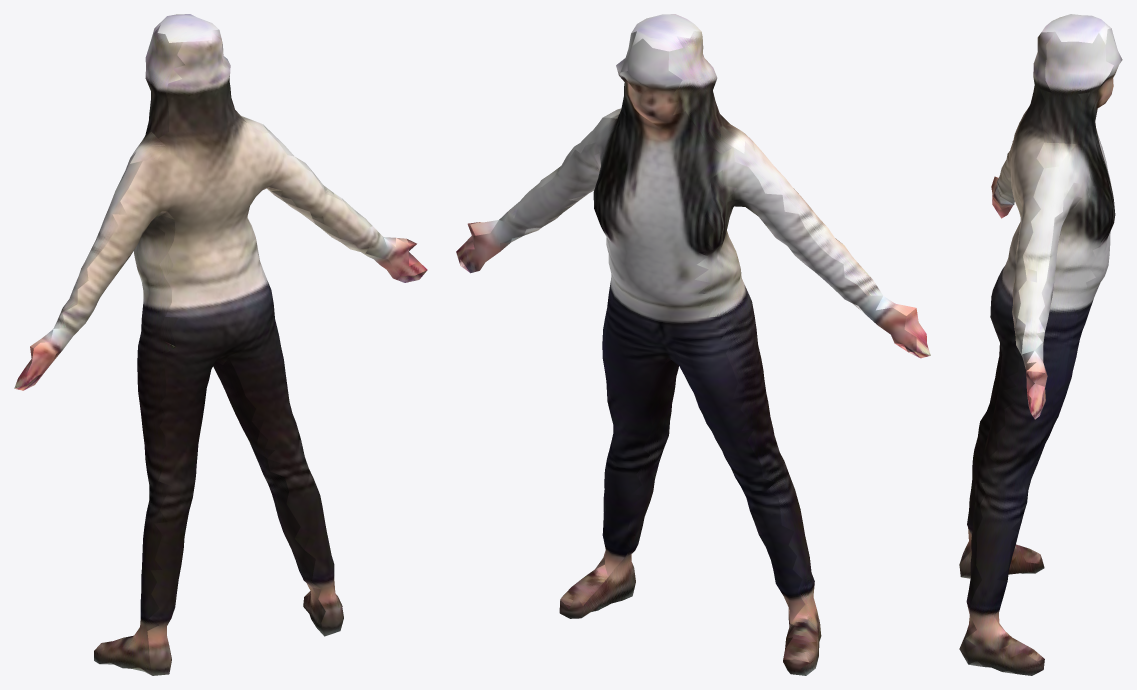
The picture shows the model from 3 angles, left to right: view 1: azimuth 30°, elevation 25°; view 2: azimuth 150°, elevation 25°; view 3: azimuth 270°, elevation 25°; orthographic projection. The views are drawn at different scales.
Visible parts, largest first — view 1: world; view 2: world; view 3: world.
Boxes of the visible parts, box(x1,y1,x2,y2) form: world: box(14, 14, 427, 675); world: box(456, 14, 930, 675); world: box(959, 14, 1122, 675).
Bounding box in the file's own units: 0.7544 × 1 × 0.2487.
Materials: 1 (1 with a texture image).
